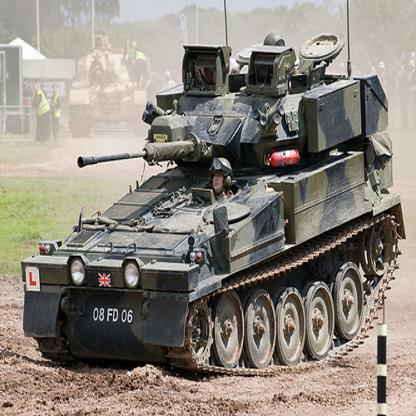Tank: (15, 25, 408, 373)
